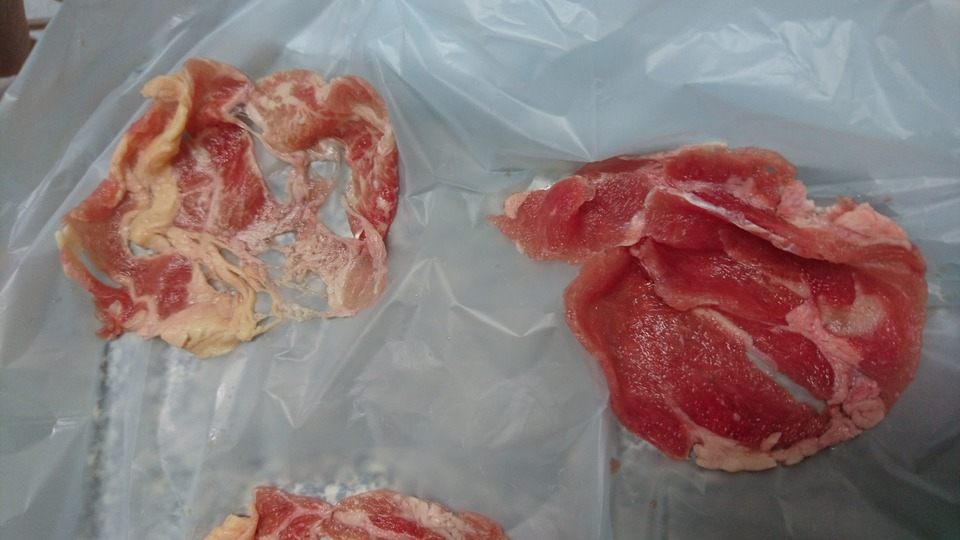restructured meat: (489, 145, 927, 460), (51, 52, 424, 351), (208, 480, 516, 540)
